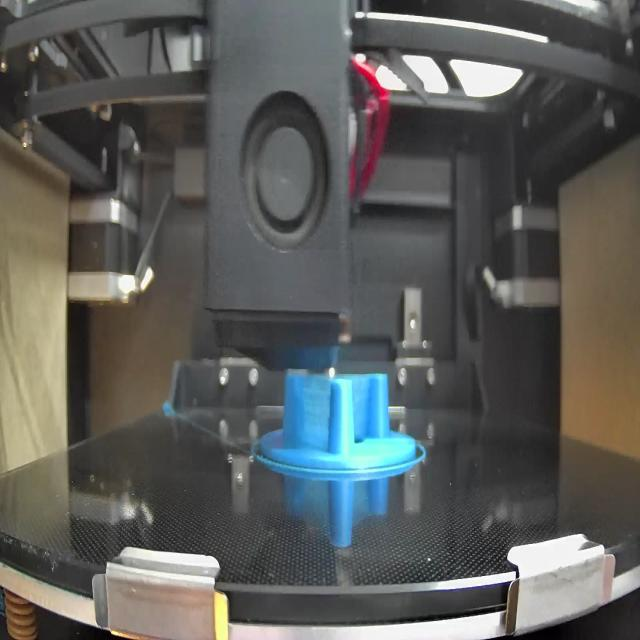stringing: (292, 375, 330, 450), (353, 375, 372, 445)
